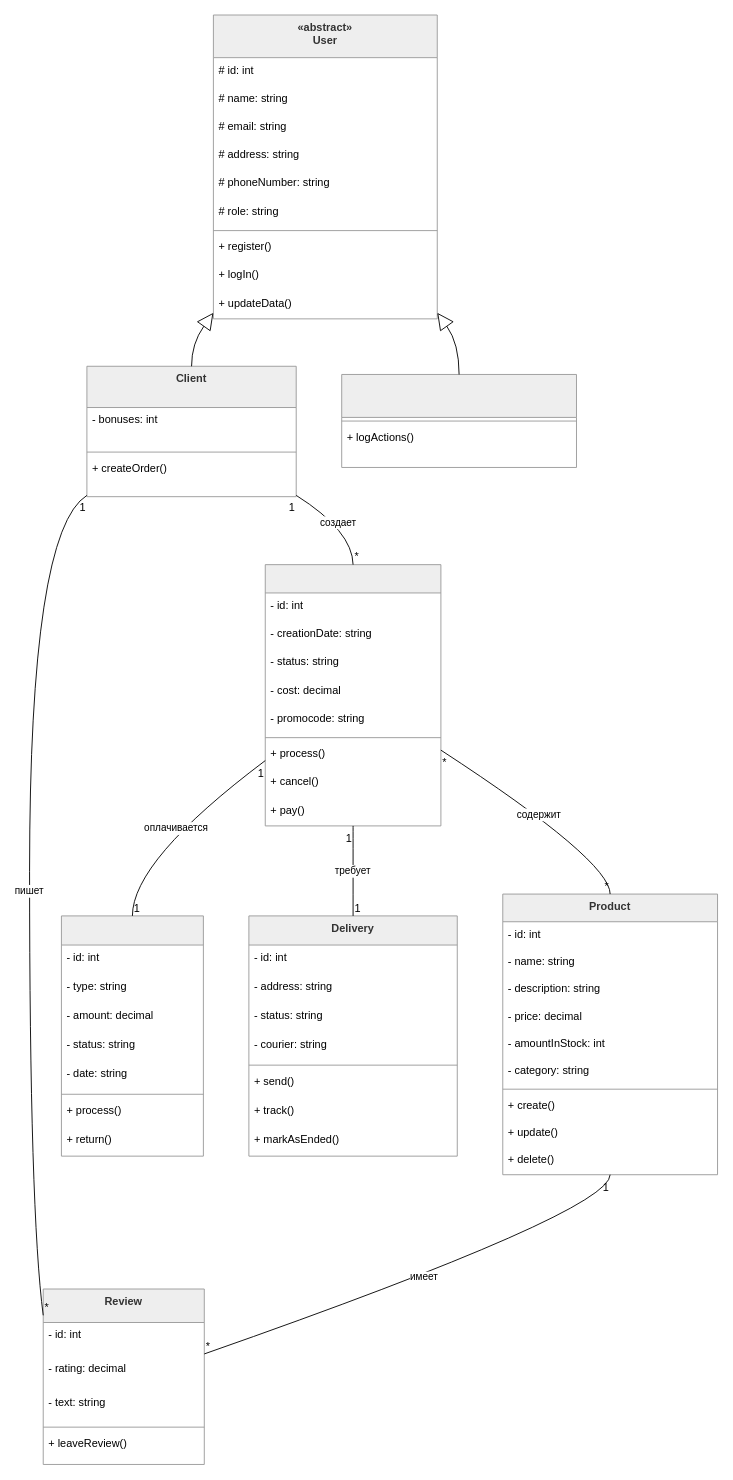
Some shapes in this 733 by 1480 pixel diagram are drawn without their labels. The box of each missing label's shape, as (x1, y1, x2, y2) in pixels:
Admin: (341, 374, 576, 467)
Order: (264, 564, 441, 826)
Payment: (61, 915, 203, 1156)
